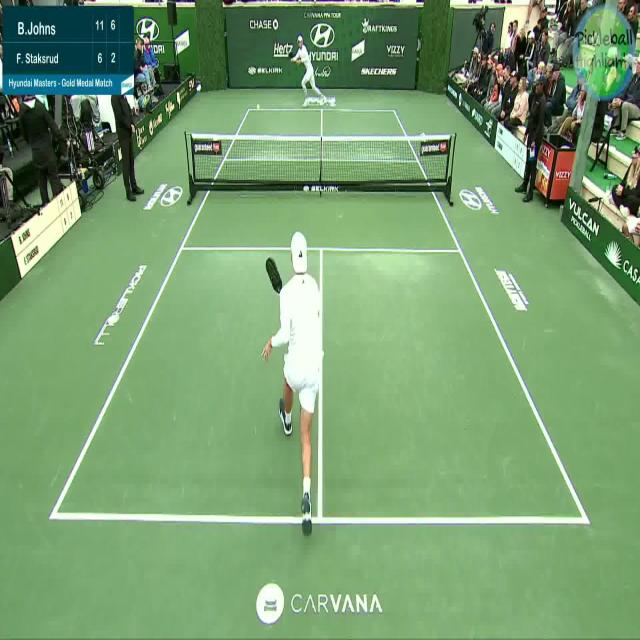Court: (54, 110, 588, 521)
ball: (254, 95, 264, 117)
